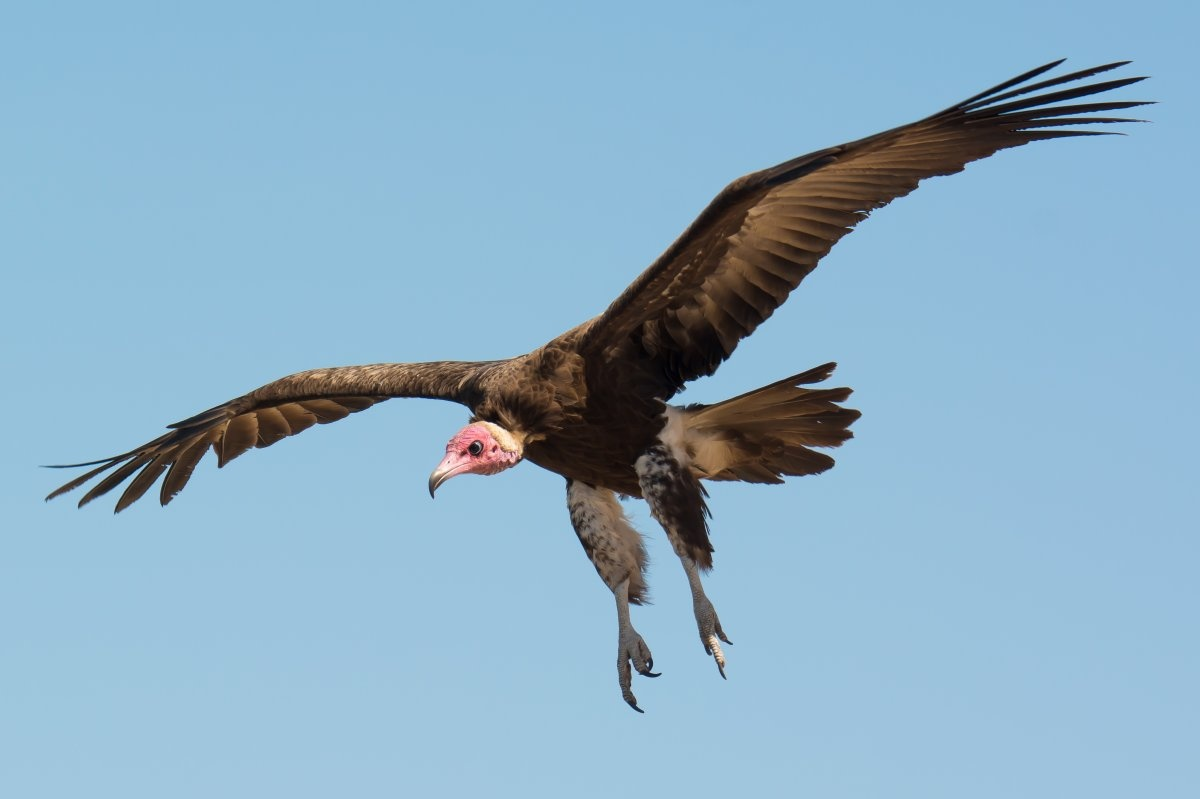bird: (33, 50, 1145, 723)
